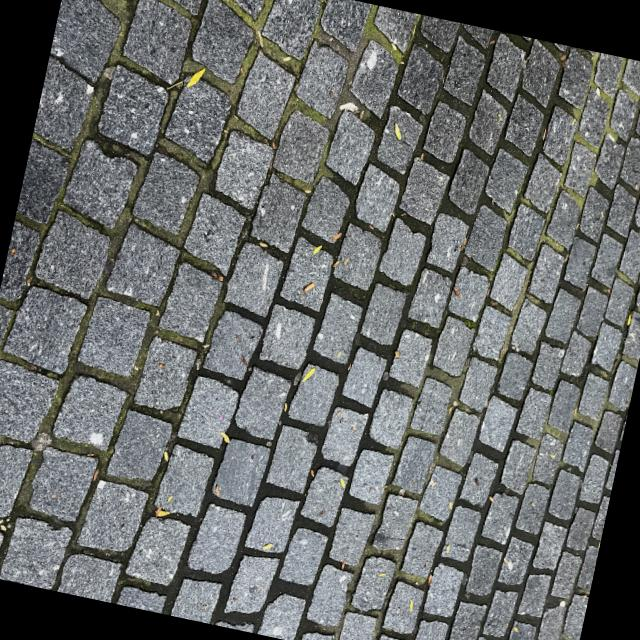pavement: (153, 169, 640, 435), (415, 419, 615, 640)
plants: (0, 311, 244, 505)
